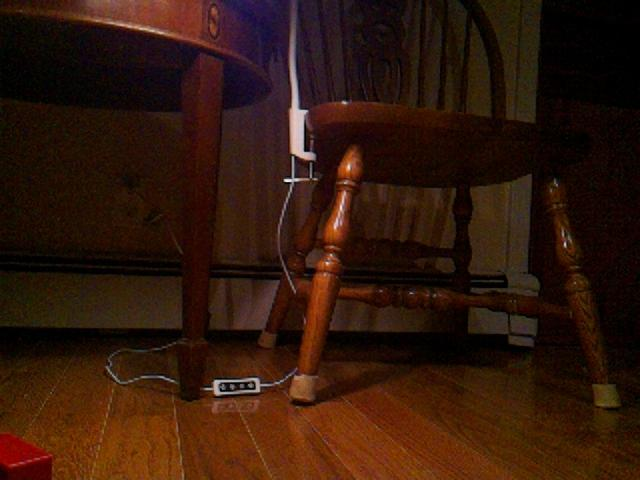red: (1, 431, 54, 480)
